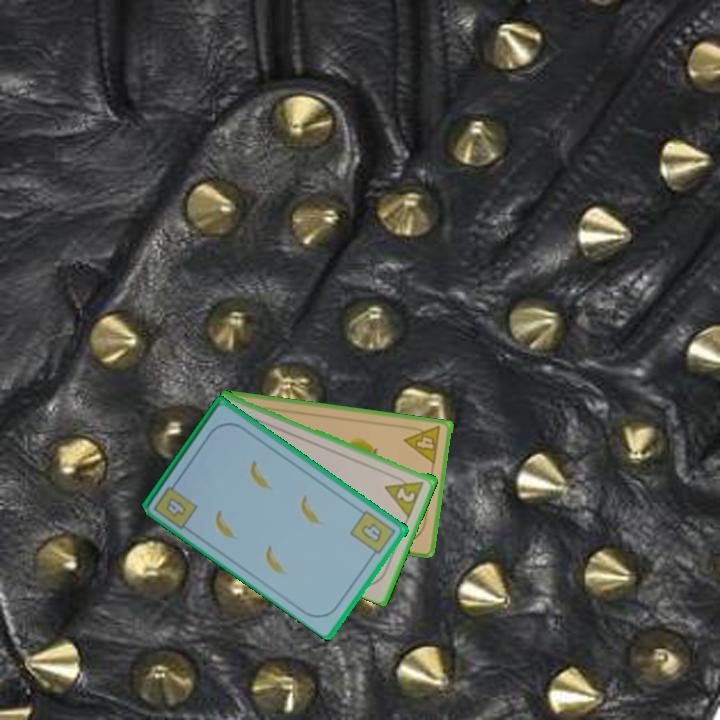2p: (381, 472, 427, 519)
4b: (150, 476, 201, 532), (347, 507, 399, 561)
4p: (402, 422, 444, 467)
